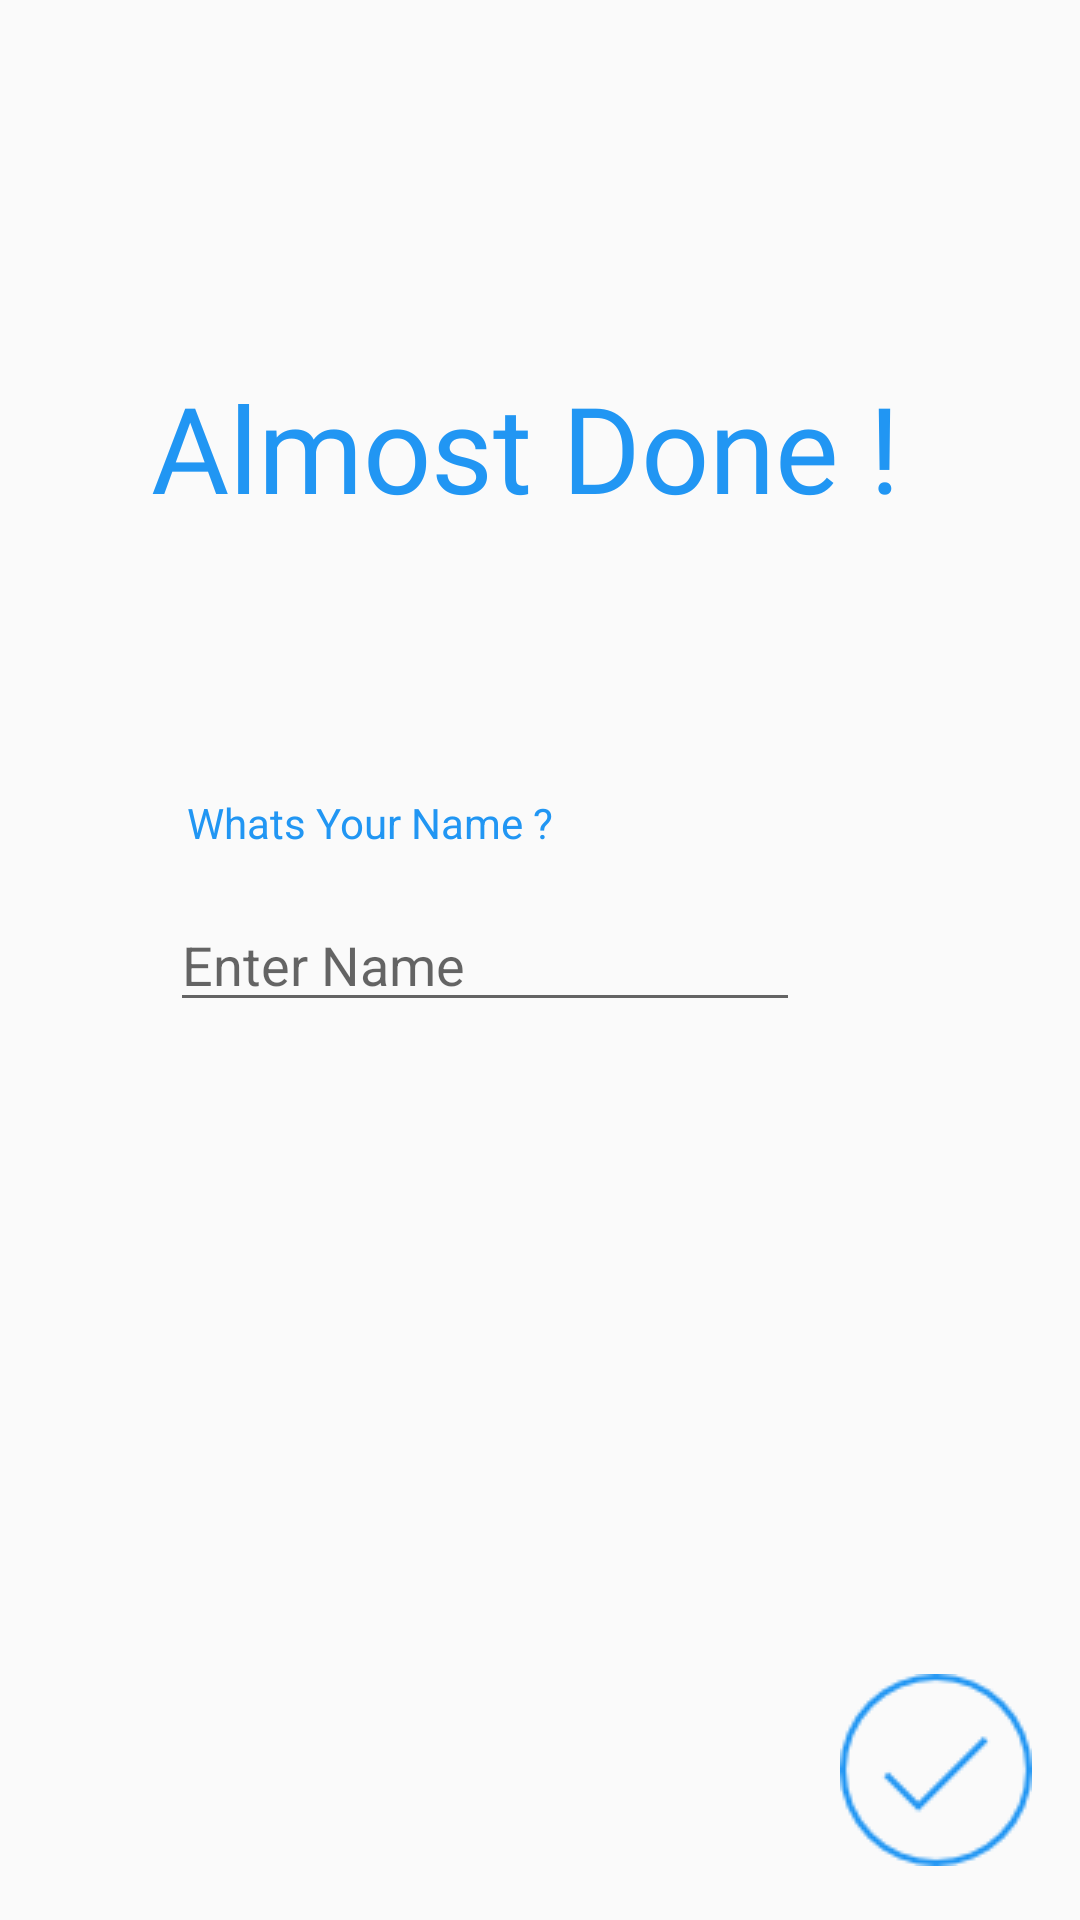

Icon bounding boxes for this 1080px x 1920px phone screenshot, format Rect(x1, y1, x2, y2):
tick: Rect(840, 1674, 1032, 1866)
